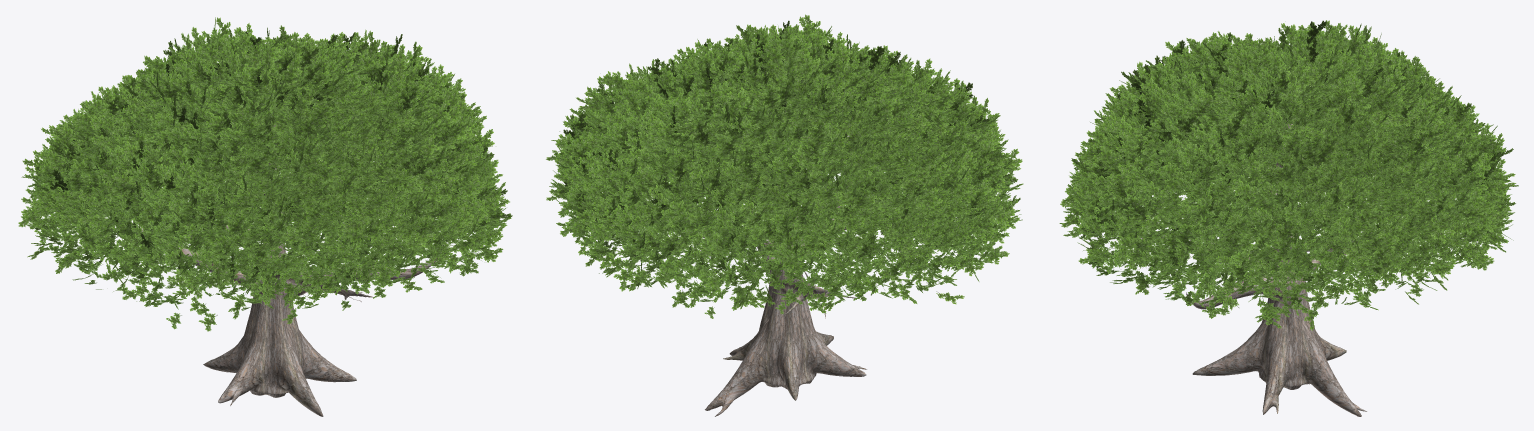
Rendered from love-tree.glb.
3 views of the same model, side by side, from view 1: azimuth 30°, elevation 25°; view 2: azimuth 150°, elevation 25°; view 3: azimuth 270°, elevation 25° (orthographic). The views are drawn at different scales.
Visible parts, largest first — view 1: Leaves_ContinuousUmbrella, Bark_ContinuousTrunkAndRoots; view 2: Leaves_ContinuousUmbrella, Bark_ContinuousTrunkAndRoots; view 3: Leaves_ContinuousUmbrella, Bark_ContinuousTrunkAndRoots.
Part boxes in pixels (x1,y1,x2,y2): Leaves_ContinuousUmbrella: (18,17,512,331); Bark_ContinuousTrunkAndRoots: (133,116,447,416); Leaves_ContinuousUmbrella: (546,14,1023,318); Bark_ContinuousTrunkAndRoots: (684,122,866,416); Leaves_ContinuousUmbrella: (1059,20,1518,330); Bark_ContinuousTrunkAndRoots: (1141,117,1370,416).
Size of the model in its own units: 11.63 by 8.83 by 10.83.
2 materials, 2 textured.
